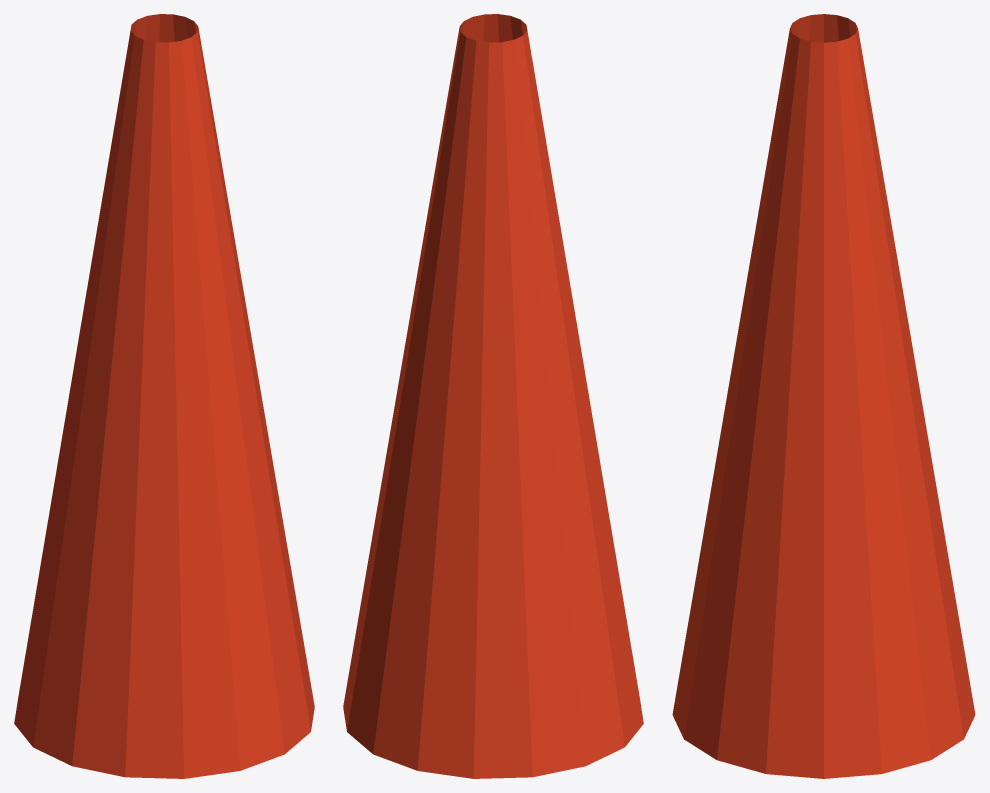
Rendered from fx_beam.gltf.
The picture shows the model from 3 angles, left to right: view 1: azimuth 30°, elevation 25°; view 2: azimuth 150°, elevation 25°; view 3: azimuth 270°, elevation 25°; orthographic projection.
Parts seen in each view (by area): view 1: fx_beam; view 2: fx_beam; view 3: fx_beam.
Part boxes in pixels (box(x1,y1,x2,y2)): fx_beam: box(14, 14, 314, 778); fx_beam: box(343, 14, 643, 778); fx_beam: box(672, 14, 975, 778).
Size of the model in its own units: 0.4 by 1 by 0.4.
